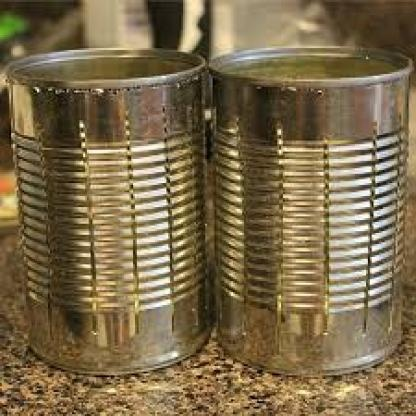trash: (7, 49, 209, 373), (211, 48, 411, 373)
